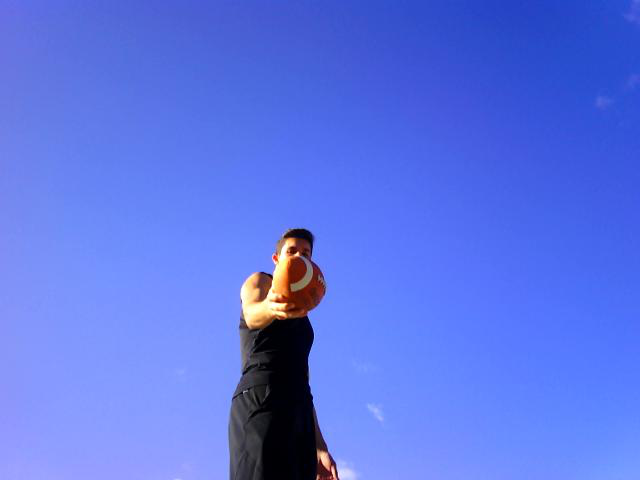footbal: (272, 255, 328, 318)
